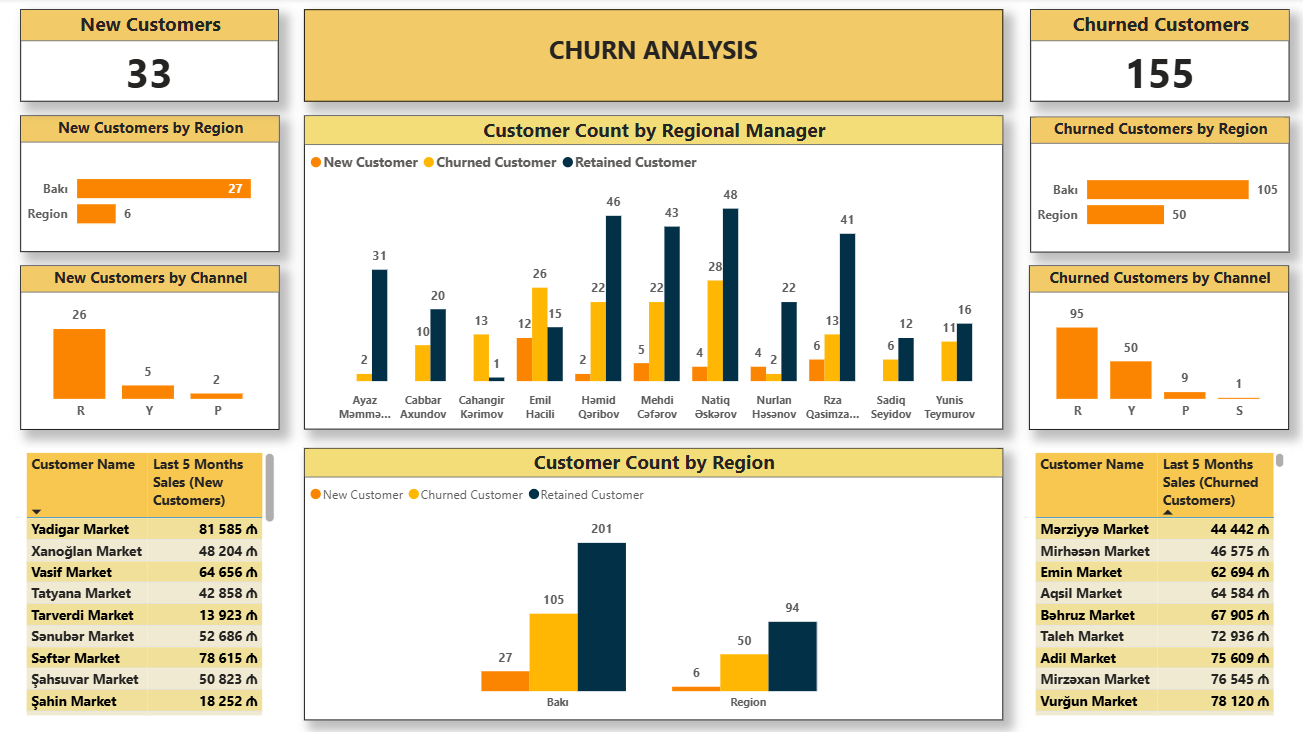

What the dashboard file says about the page in this screenshot:
{"tool":"powerbi","page":{"name":"Churn","canvas":[1280,720],"ordinal":0},"visuals":[{"type":"textbox","box":[298.8,10.5,683.7,90.7],"z":0},{"type":"card","title":"Churned Customers","fields":{"Values":["Hesablama.Çıxmış müştəri"]},"box":[1008.6,11,253.9,90.6],"z":1000},{"type":"clusteredBarChart","title":"New Customers by Region","fields":{"Category":["Müştəri bazası.Regional"],"Y":["Hesablama.Yeni müştəri"]},"box":[20.9,115.1,253.5,133.7],"z":2000},{"type":"clusteredBarChart","title":"Churned Customers by Region","fields":{"Category":["Müştəri bazası.Regional"],"Y":["Hesablama.Çıxmış müştəri"]},"box":[1008.6,116.6,253.9,133.1],"z":3000},{"type":"clusteredColumnChart","title":"New Customers by Channel","fields":{"Y":["Hesablama.Yeni müştəri"],"Category":["Müştəri bazası.Kanal"]},"box":[20.9,261.6,253.5,160.5],"z":4000},{"type":"clusteredColumnChart","title":"Churned Customers by Channel","fields":{"Category":["Müştəri bazası.Kanal"],"Y":["Hesablama.Çıxmış müştəri"]},"box":[1008.1,261.6,254.7,160.5],"z":5000},{"type":"tableEx","fields":{"Values":["Müştəri bazası.Müştəri adı","Hesablama.Son 5 aylıq satış (yeni müştəri)"]},"box":[20.9,440.7,253.5,266.3],"z":6000},{"type":"tableEx","fields":{"Values":["Müştəri bazası.Müştəri adı","Hesablama.Son 5 aylıq satış (çıxmış müştəri)"]},"box":[1008.1,440.7,254.7,266.3],"z":7000},{"type":"clusteredColumnChart","title":"Customer Count by Regional Manager","fields":{"Category":["Müştəri bazası.Bölgə müdiri","Müştəri bazası.Temsilçi"],"Y":["Hesablama.Yeni müştəri","Hesablama.Çıxmış müştəri","Hesablama.Daimi müştəri"]},"box":[298.8,115.1,683.7,307],"z":8000},{"type":"clusteredColumnChart","title":"Customer Count by Region","fields":{"Y":["Hesablama.Yeni müştəri","Hesablama.Çıxmış müştəri","Hesablama.Daimi müştəri"],"Category":["Müştəri bazası.Regional","Müştəri bazası.Region"]},"box":[298.8,440.7,683.7,266.3],"z":9000},{"type":"card","title":"New Customers","fields":{"Values":["Hesablama.Yeni müştəri"]},"box":[20.6,11,253,90.6],"z":10000}]}

Visuals, with their boxes in screenshot pixels (x1, y1, x2, y2), scaled from the page's 1280x720 canvas onto the 1303x732 screenshot:
textbox: region(304, 11, 1000, 103)
"Churned Customers" card: region(1027, 11, 1285, 103)
"New Customers by Region" clusteredBarChart: region(21, 117, 279, 253)
"Churned Customers by Region" clusteredBarChart: region(1027, 119, 1285, 254)
"New Customers by Channel" clusteredColumnChart: region(21, 266, 279, 429)
"Churned Customers by Channel" clusteredColumnChart: region(1026, 266, 1285, 429)
tableEx - Müştəri bazası.Müştəri adı x Hesablama.Son 5 aylıq satış (yeni müştəri): region(21, 448, 279, 719)
tableEx - Müştəri bazası.Müştəri adı x Hesablama.Son 5 aylıq satış (çıxmış müştəri): region(1026, 448, 1285, 719)
"Customer Count by Regional Manager" clusteredColumnChart: region(304, 117, 1000, 429)
"Customer Count by Region" clusteredColumnChart: region(304, 448, 1000, 719)
"New Customers" card: region(21, 11, 279, 103)
